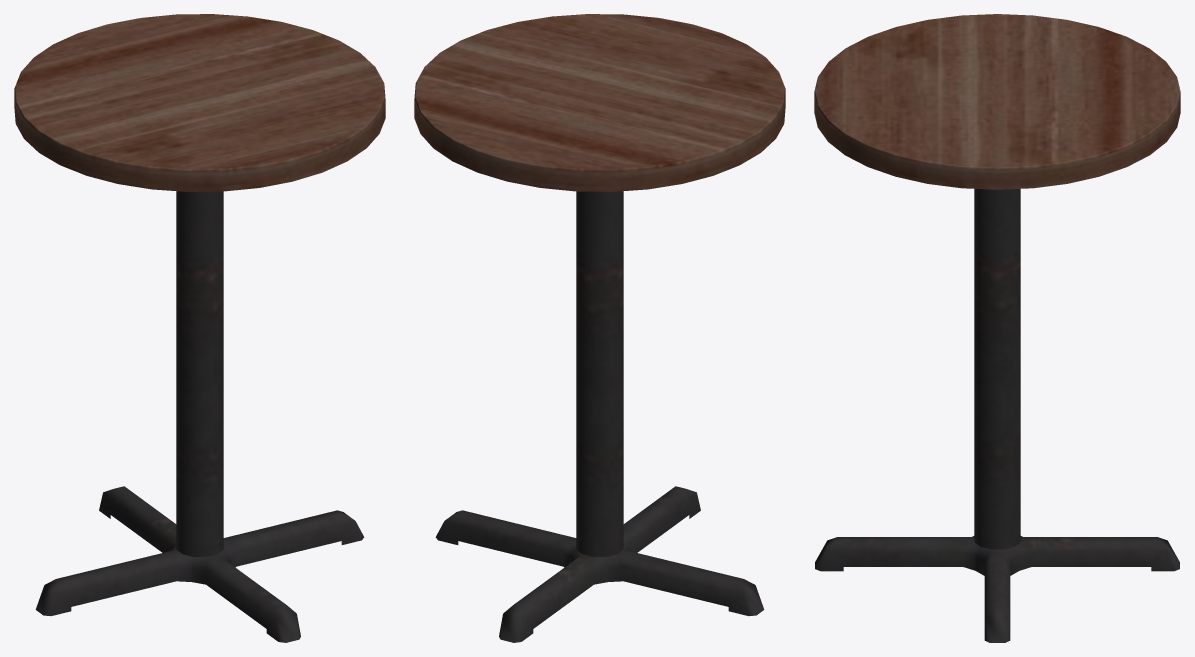
Rendered from table.fbx.
3 renders of one model, left to right at view 1: azimuth 30°, elevation 25°; view 2: azimuth 150°, elevation 25°; view 3: azimuth 270°, elevation 25°, orthographic.
Visible parts, largest first — view 1: table_hightop; view 2: table_hightop; view 3: table_hightop.
Part boxes in pixels (x1=…): table_hightop: x1=14, y1=14, x2=385, y2=642; table_hightop: x1=414, y1=14, x2=785, y2=642; table_hightop: x1=814, y1=14, x2=1180, y2=642.
Bounding box in the file's own units: 7.62 × 10.9 × 7.62.
1 material, 1 textured.
